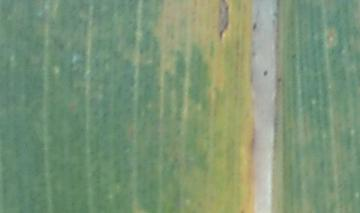tarspot: (214, 1, 231, 41), (261, 67, 270, 79), (250, 20, 258, 32), (249, 49, 258, 58), (290, 51, 297, 61), (275, 76, 282, 84)
